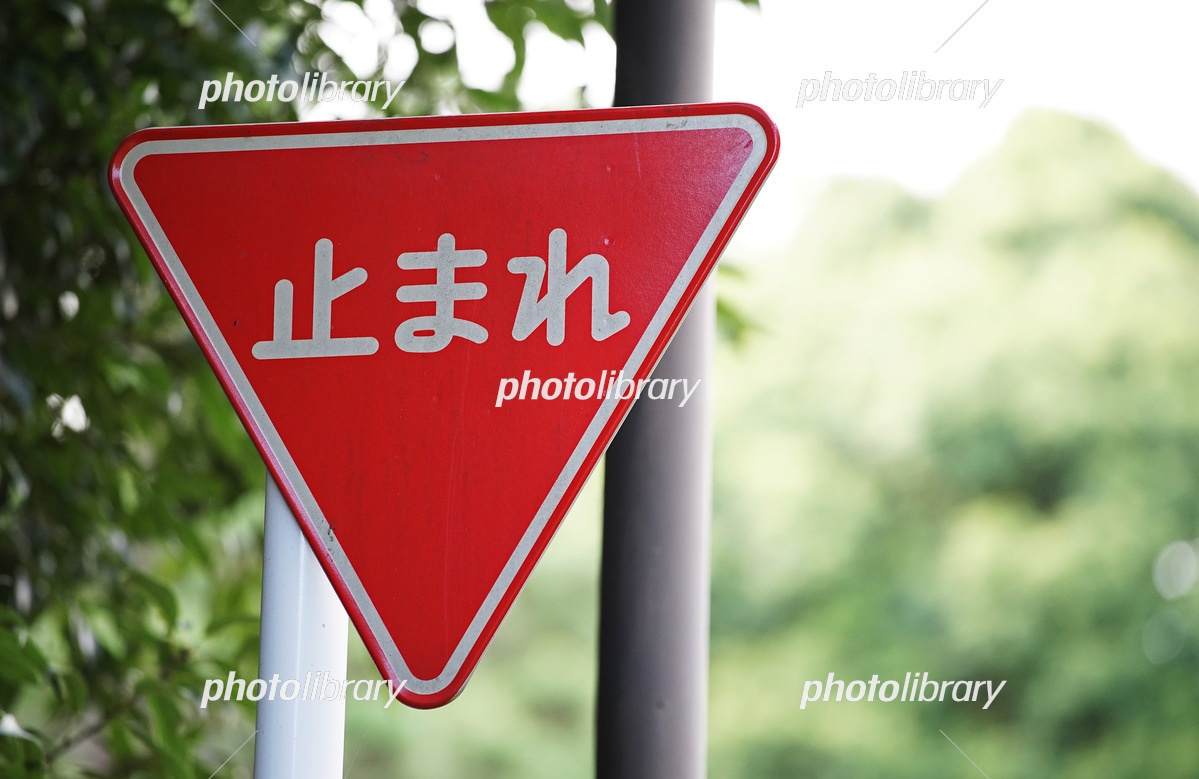Regulatory_sign_triangle: (95, 106, 798, 701)
